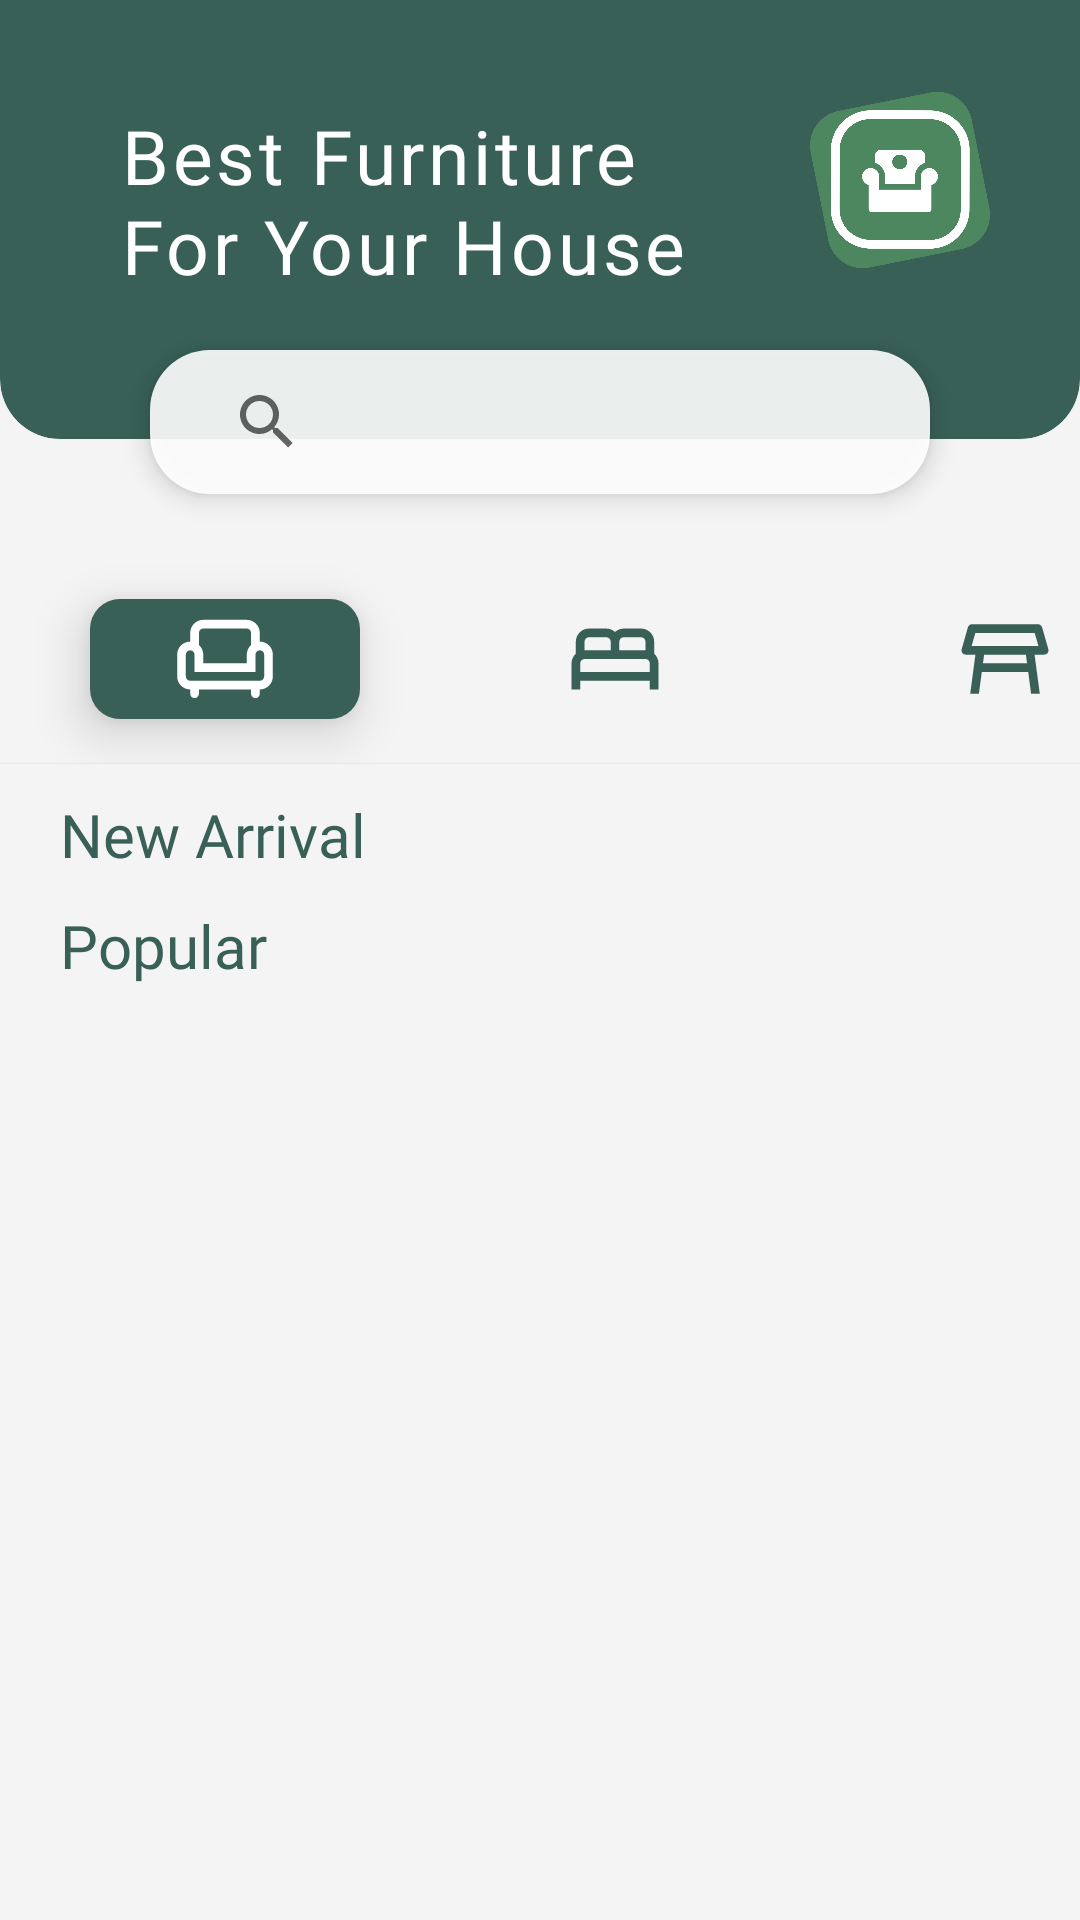

Named icons in this screenshot (1080px x 1920px) and their centers, (x=x, y=y):
bed button: (x=615, y=659)
sofa button: (x=225, y=659)
